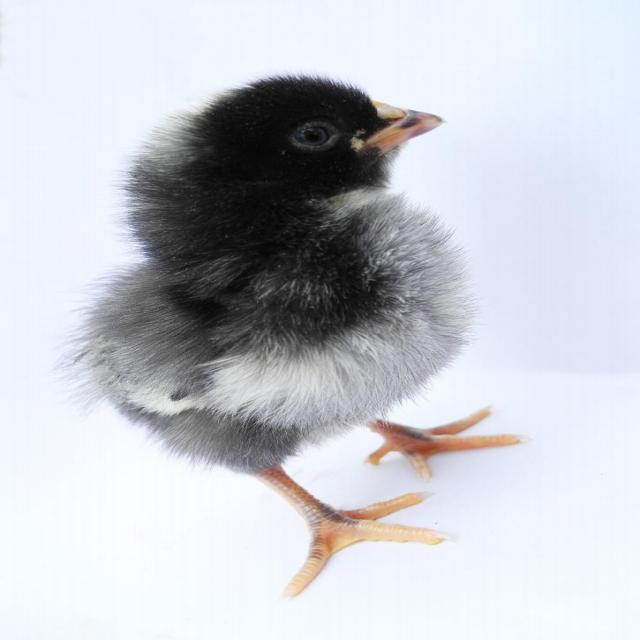Chicken: (42, 29, 504, 590)
